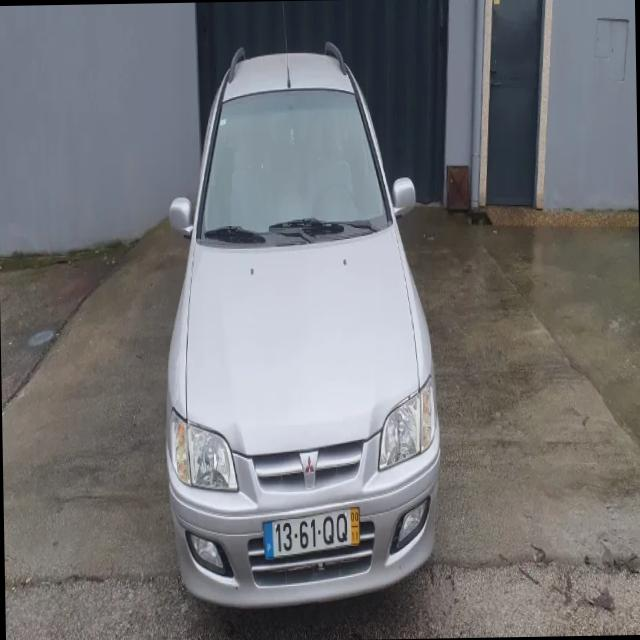portuguese-license-plates: (260, 501, 363, 569)
